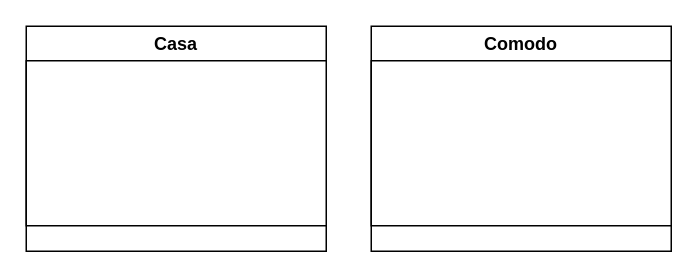
The diagram is 698 pixels wide and 278 high, and some of its shapes have lost their labels. Here are the shapes that lost their labels. From the top down, the centre of each, then its label:
the point at 175,142: Endereço: String Cor: String Metragem: int Comodos: list <Comodos>
the point at 520,142: Nome: String Janelas: Int Portas: int
